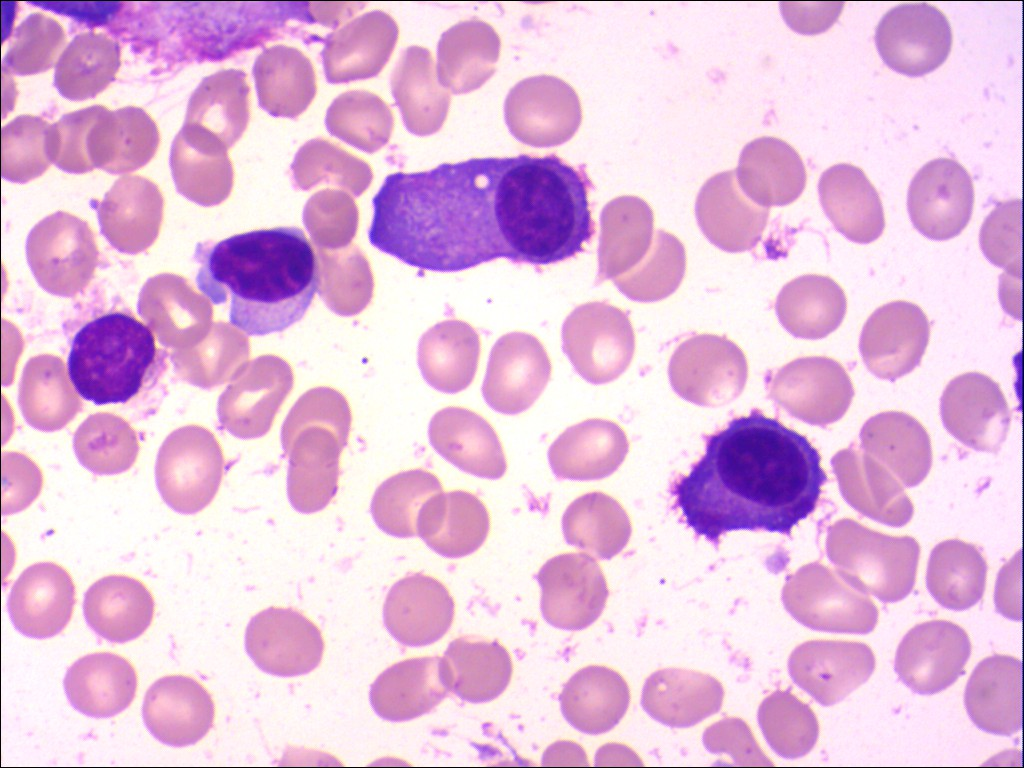32: (189, 222, 329, 341)
51: (363, 151, 602, 279), (668, 405, 831, 549)
x: (59, 308, 169, 413)
